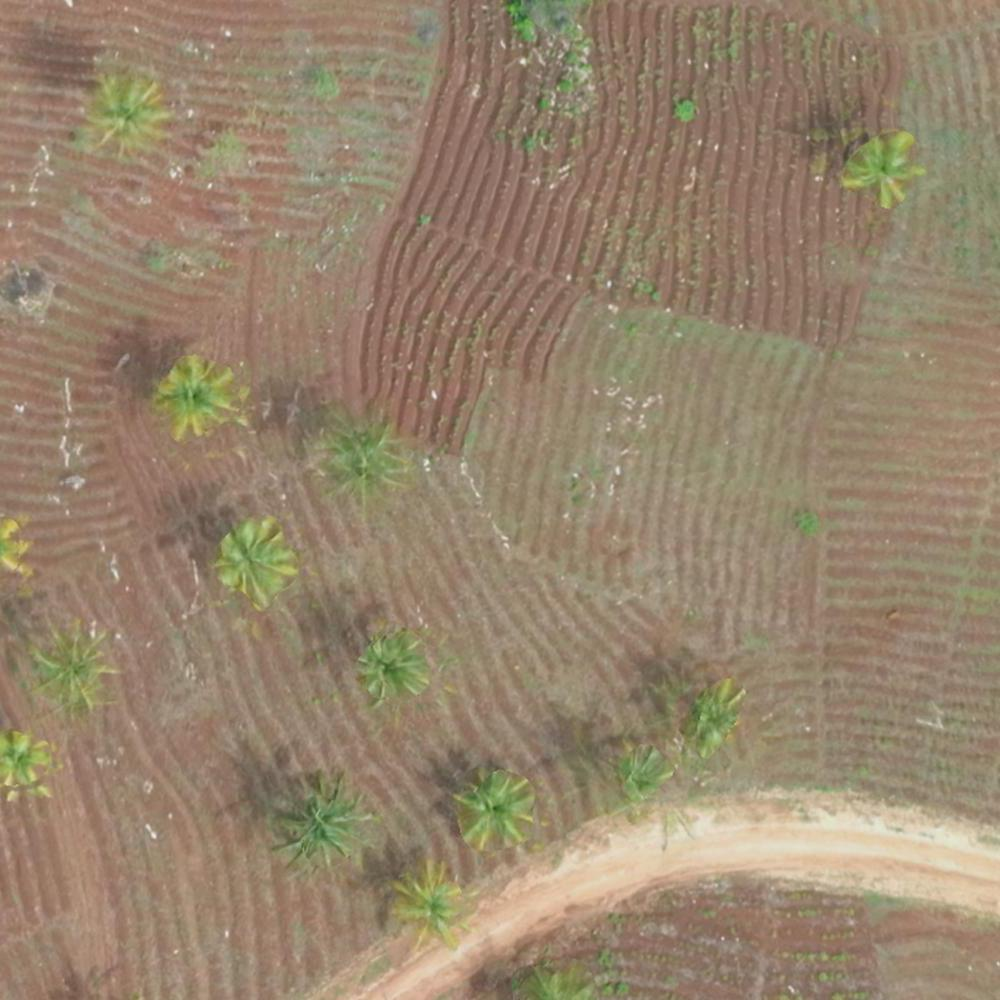Palm: (29, 626, 113, 708), (843, 130, 924, 208), (212, 522, 294, 599), (394, 858, 468, 938), (455, 771, 536, 844), (160, 356, 232, 433), (88, 72, 162, 140), (359, 635, 429, 699), (1, 732, 53, 794)
